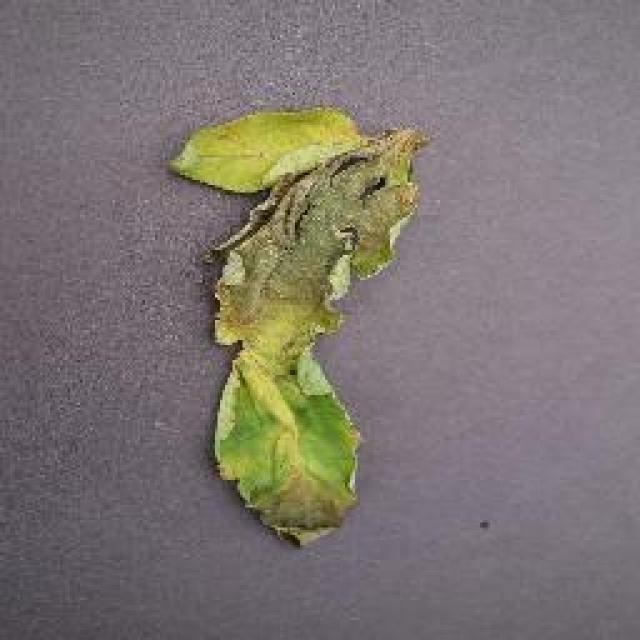Tomato late blight leaf: (174, 104, 421, 551)
